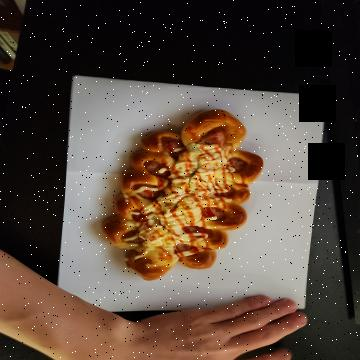pizza_bread: (96, 100, 276, 265)
